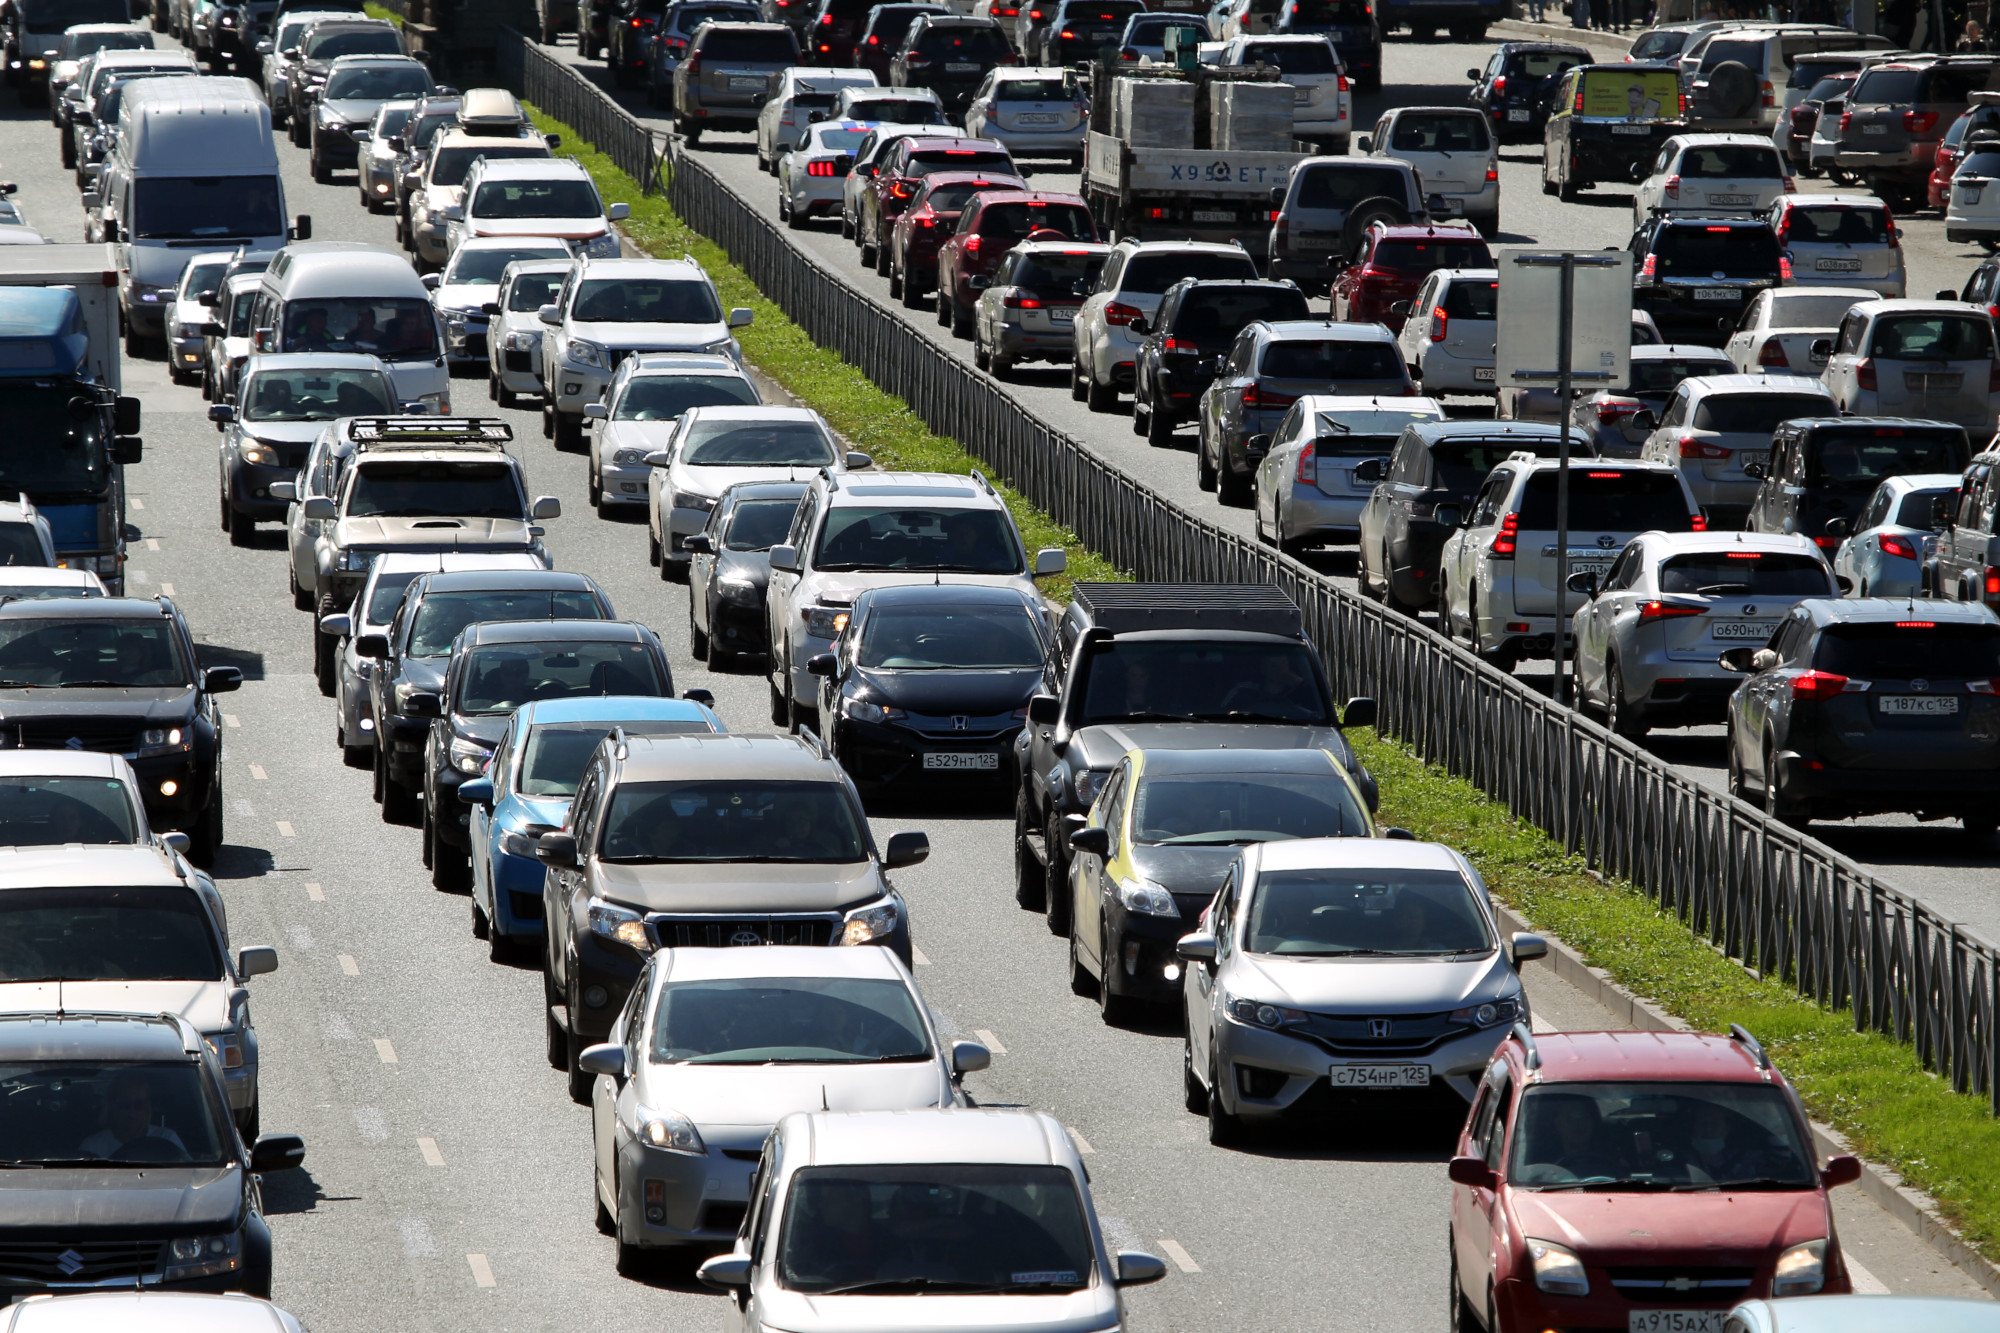Car: (535, 730, 929, 1099), (578, 948, 990, 1273), (1014, 583, 1378, 931), (1448, 1030, 1859, 1333), (1176, 836, 1546, 1146), (700, 1108, 1164, 1333), (0, 1013, 303, 1303), (401, 617, 715, 891), (1068, 750, 1374, 1024), (0, 847, 278, 1140), (767, 470, 1066, 727), (302, 417, 562, 693), (457, 698, 723, 961), (1716, 597, 2000, 833), (354, 570, 617, 824), (0, 600, 241, 861), (1432, 451, 1707, 674), (1566, 530, 1854, 742), (103, 74, 312, 357), (809, 585, 1053, 794), (0, 245, 141, 597), (1078, 25, 1320, 229), (1356, 418, 1597, 620), (321, 552, 547, 765), (1194, 320, 1425, 506), (207, 351, 425, 546), (538, 257, 752, 449), (641, 405, 874, 580), (248, 241, 452, 415), (1743, 415, 1972, 570), (1071, 237, 1261, 412), (1246, 394, 1447, 559), (1129, 277, 1313, 446), (584, 348, 763, 519), (1810, 299, 2000, 458), (401, 88, 562, 275), (1631, 373, 1841, 507), (1601, 207, 1796, 336), (935, 190, 1102, 339), (683, 481, 810, 671), (1832, 51, 2000, 195), (855, 137, 1022, 277), (1267, 155, 1442, 283), (1538, 61, 1692, 204), (419, 237, 575, 376), (1686, 24, 1893, 129), (440, 152, 630, 259), (968, 238, 1114, 375), (1494, 309, 1665, 425), (1326, 220, 1493, 339), (0, 751, 187, 857), (889, 171, 1032, 308), (1569, 344, 1738, 458), (64, 45, 201, 183), (665, 16, 809, 146), (1358, 107, 1502, 235), (1630, 132, 1799, 234), (1825, 473, 1963, 597), (283, 16, 412, 147), (836, 123, 970, 247), (1216, 33, 1352, 155), (309, 54, 436, 183), (73, 71, 196, 193), (1717, 286, 1883, 376), (482, 257, 581, 408), (1765, 192, 1906, 298), (880, 10, 1019, 118), (1466, 42, 1596, 153), (1772, 49, 1912, 152), (1390, 266, 1500, 396), (751, 67, 880, 177), (956, 65, 1090, 170), (776, 119, 900, 229), (254, 10, 369, 128), (1920, 451, 2000, 617), (387, 85, 464, 251), (0, 1291, 300, 1333), (635, 0, 766, 94), (199, 244, 277, 400), (42, 24, 156, 128), (3, 0, 131, 88), (269, 425, 329, 608), (1722, 1294, 2000, 1333), (156, 251, 236, 385), (1265, 0, 1383, 88), (199, 272, 263, 409), (1927, 91, 2000, 210), (1676, 22, 1795, 94), (1786, 68, 1863, 177), (852, 1, 952, 85), (1621, 18, 1777, 65), (352, 100, 416, 214), (1041, 0, 1148, 67), (806, 0, 913, 62), (1946, 140, 2000, 253), (1096, 13, 1215, 64), (807, 85, 953, 125), (1936, 250, 2000, 335), (607, 0, 669, 83), (49, 54, 94, 168), (1810, 91, 1860, 186), (0, 565, 109, 603), (0, 503, 58, 567), (1011, 0, 1060, 65), (1955, 101, 2000, 167), (760, 0, 818, 49), (207, 0, 242, 76), (1222, 0, 1286, 40), (575, 0, 619, 60), (80, 168, 112, 244), (974, 0, 1019, 42), (535, 0, 577, 45), (192, 0, 216, 61), (0, 222, 51, 248), (83, 149, 114, 187), (1207, 0, 1234, 39), (916, 0, 978, 15), (0, 199, 30, 226), (1199, 42, 1227, 62), (0, 180, 16, 199)
